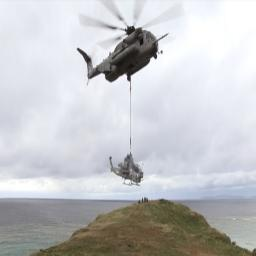helicopter: (78, 9, 172, 90), (107, 146, 149, 192)
